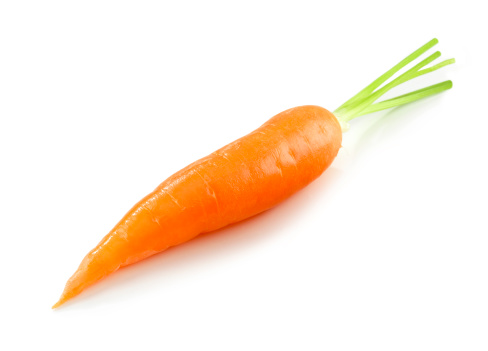Carrot: (47, 29, 457, 311)
